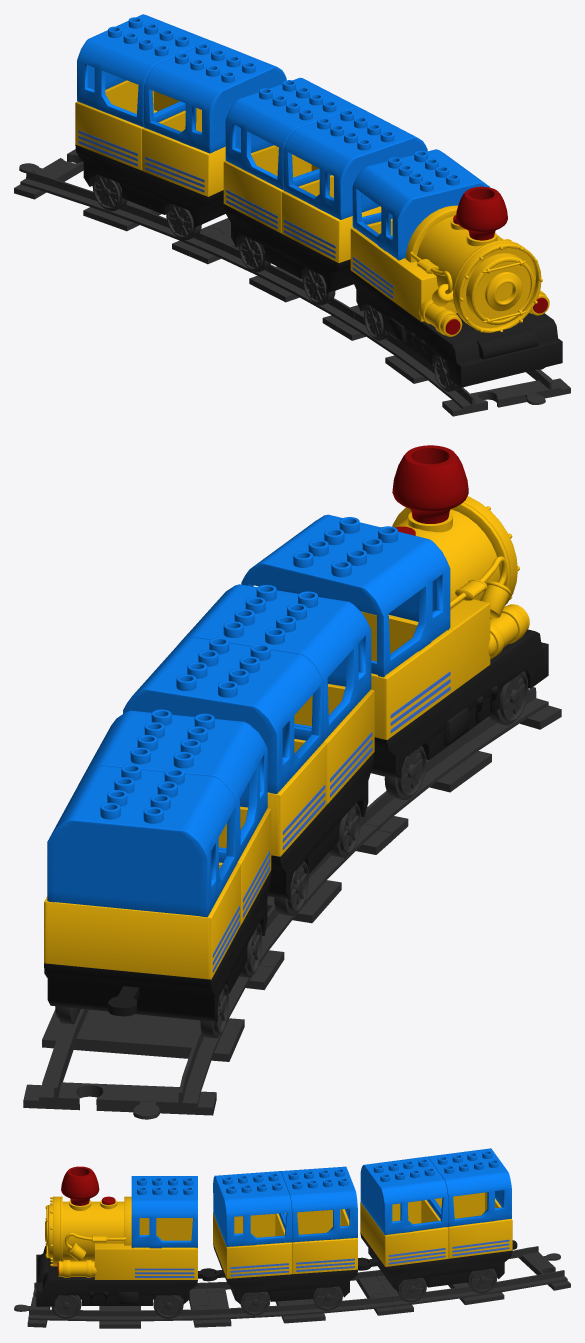
File: toy_train_-_3december2020_day7.glb
The picture shows the model from 3 angles, top to bottom: view 1: azimuth 30°, elevation 25°; view 2: azimuth 150°, elevation 25°; view 3: azimuth 270°, elevation 25°; orthographic projection. The views are drawn at different scales.
Parts seen in each view (by area): view 1: Train_Locomotive, Cube.002, Cube.009, Train_Rail_Curved, Train_Rail_Curved.002, Train_Rail_Curved.001, Train_Chimey, Cube.003, Cube.011, Train_Wheels; view 2: Cube.002, Train_Locomotive, Cube.009, Train_Rail_Curved.002, Train_Rail_Curved, Train_Chimey, Train_Rail_Curved.001, Train_Wheels, Cube.011, Cube.003; view 3: Cube.002, Cube.009, Train_Locomotive, Train_Rail_Curved.001, Train_Rail_Curved.002, Train_Rail_Curved, Train_Chimey, Train_Wheels, Cube.011, Cube.003.
Boxes of the visible parts, bbox=[...] form: Train_Locomotive: bbox=[350, 149, 562, 387]; Cube.002: bbox=[75, 14, 286, 227]; Cube.009: bbox=[223, 77, 427, 293]; Train_Rail_Curved: bbox=[337, 307, 570, 416]; Train_Rail_Curved.002: bbox=[14, 149, 230, 256]; Train_Rail_Curved.001: bbox=[190, 228, 363, 331]; Train_Chimey: bbox=[450, 186, 507, 246]; Cube.003: bbox=[92, 174, 201, 240]; Cube.011: bbox=[239, 235, 335, 305]; Train_Wheels: bbox=[364, 304, 544, 391]; Cube.002: bbox=[44, 709, 271, 1021]; Train_Locomotive: bbox=[241, 496, 548, 778]; Cube.009: bbox=[123, 584, 374, 899]; Train_Rail_Curved.002: bbox=[23, 963, 274, 1119]; Train_Rail_Curved: bbox=[364, 687, 561, 840]; Train_Chimey: bbox=[392, 445, 468, 536]; Train_Rail_Curved.001: bbox=[259, 816, 392, 974]; Train_Wheels: bbox=[384, 671, 528, 799]; Cube.011: bbox=[274, 803, 360, 915]; Cube.003: bbox=[55, 923, 261, 1038]; Cube.002: bbox=[358, 1148, 517, 1291]; Cube.009: bbox=[200, 1166, 368, 1304]; Train_Locomotive: bbox=[36, 1176, 214, 1306]; Train_Rail_Curved.001: bbox=[194, 1270, 395, 1326]; Train_Rail_Curved.002: bbox=[372, 1246, 570, 1313]; Train_Rail_Curved: bbox=[14, 1282, 224, 1328]; Train_Chimey: bbox=[61, 1166, 117, 1210]; Train_Wheels: bbox=[51, 1295, 183, 1318]; Cube.011: bbox=[240, 1286, 342, 1315]; Cube.003: bbox=[397, 1268, 497, 1302].
Bounding box in the file's own units: 71.73 × 58.62 × 217.
Materials: 2 (1 with a texture image).
